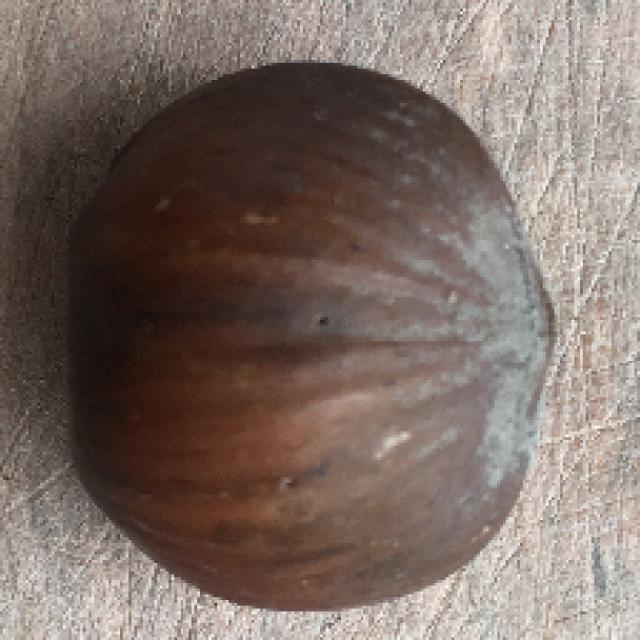damagedHazelnut: (57, 60, 555, 610)
